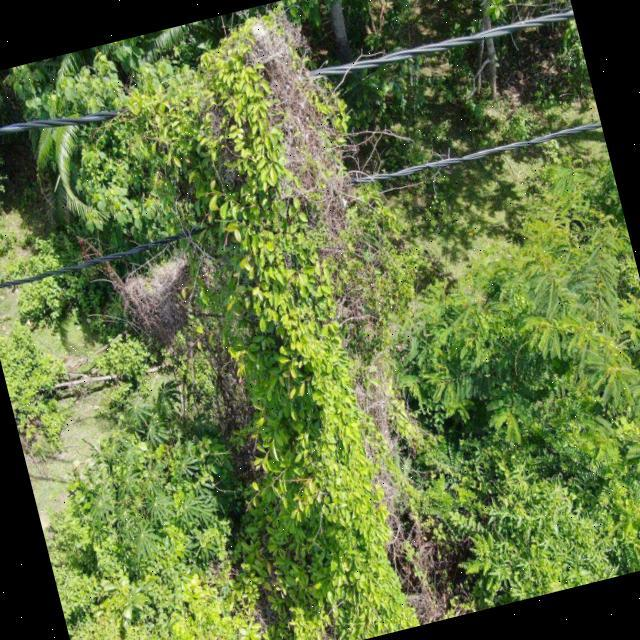critical vegetation: (140, 2, 462, 614)
